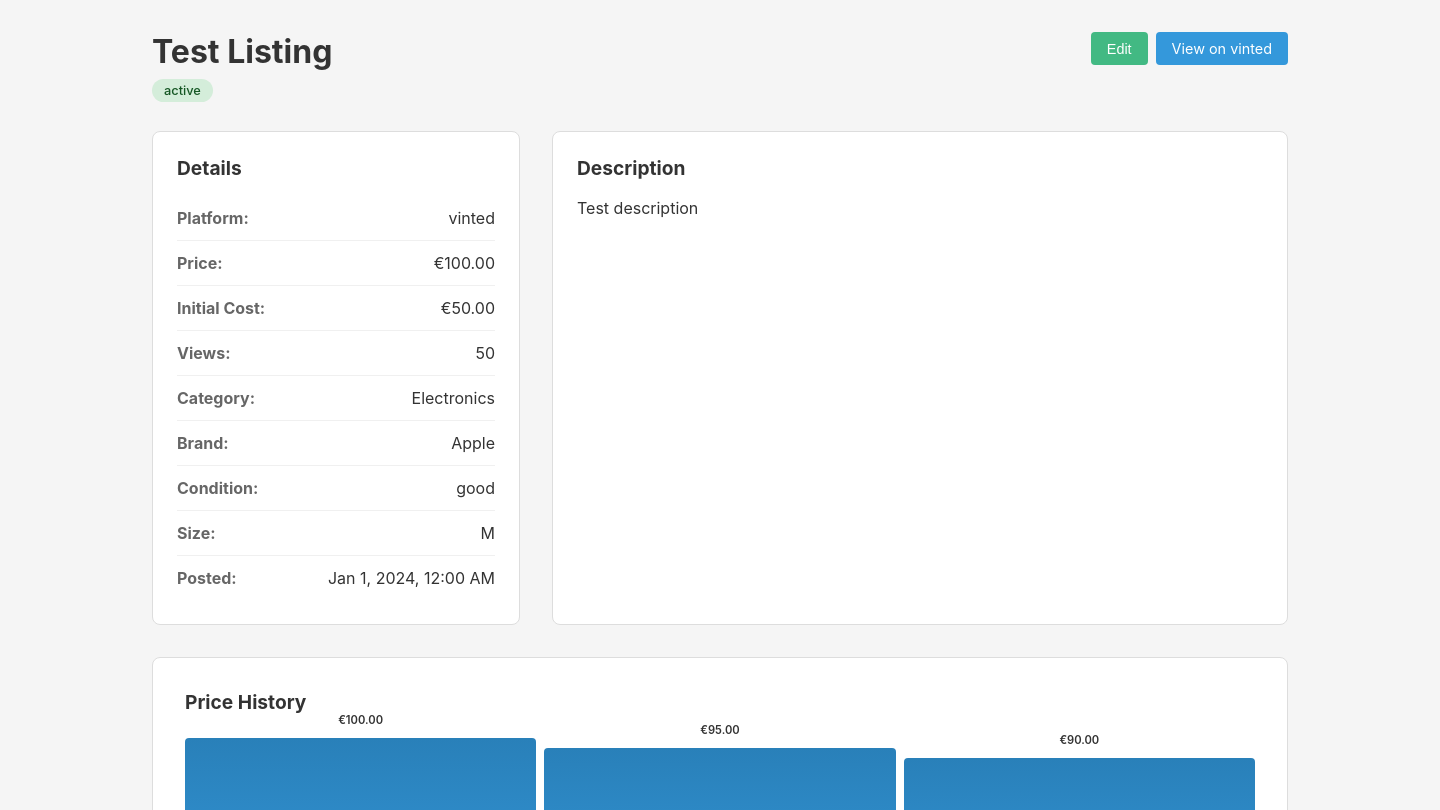
Scenario: ListingDetail › opens edit modal when Edit button is clicked
The width and height of the screenshot is (1440, 810).
Click the button with class "btn-edit": (1119, 48) [1091,32,1148,65]
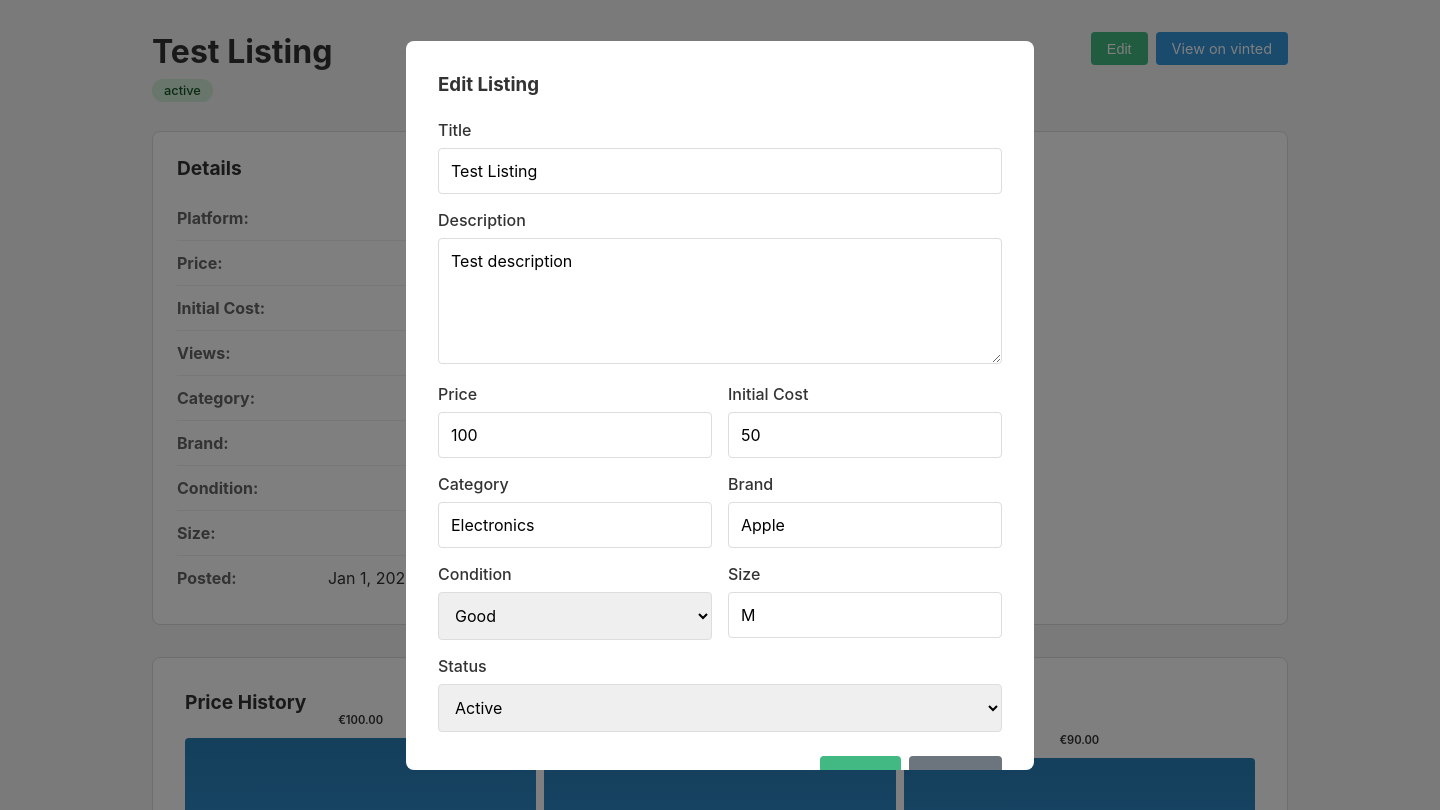
Check: the dialog with class "modal" is shown, box [406,40,1034,770]
